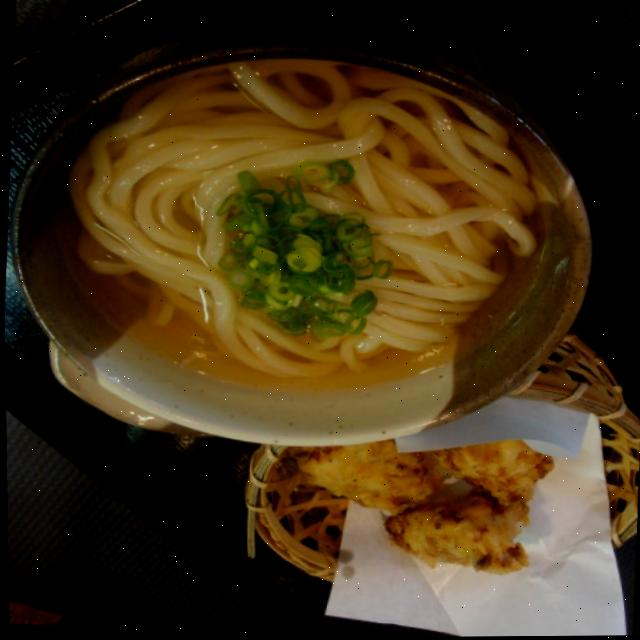面条主食: (2, 16, 581, 435)
